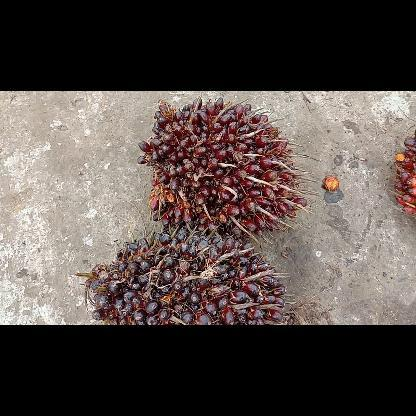Kurang masak: (83, 230, 293, 324)
TBS masak: (136, 98, 308, 240)
